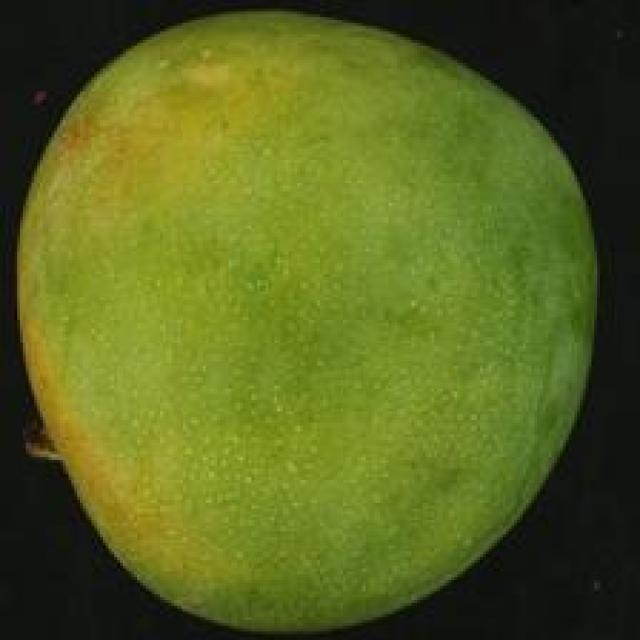Good_Mango: (14, 9, 603, 637)
